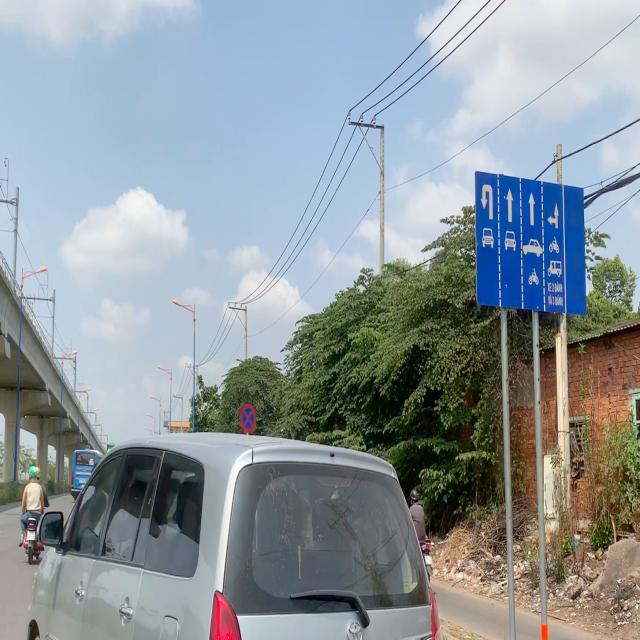Cam dung va do: (239, 402, 257, 434)
